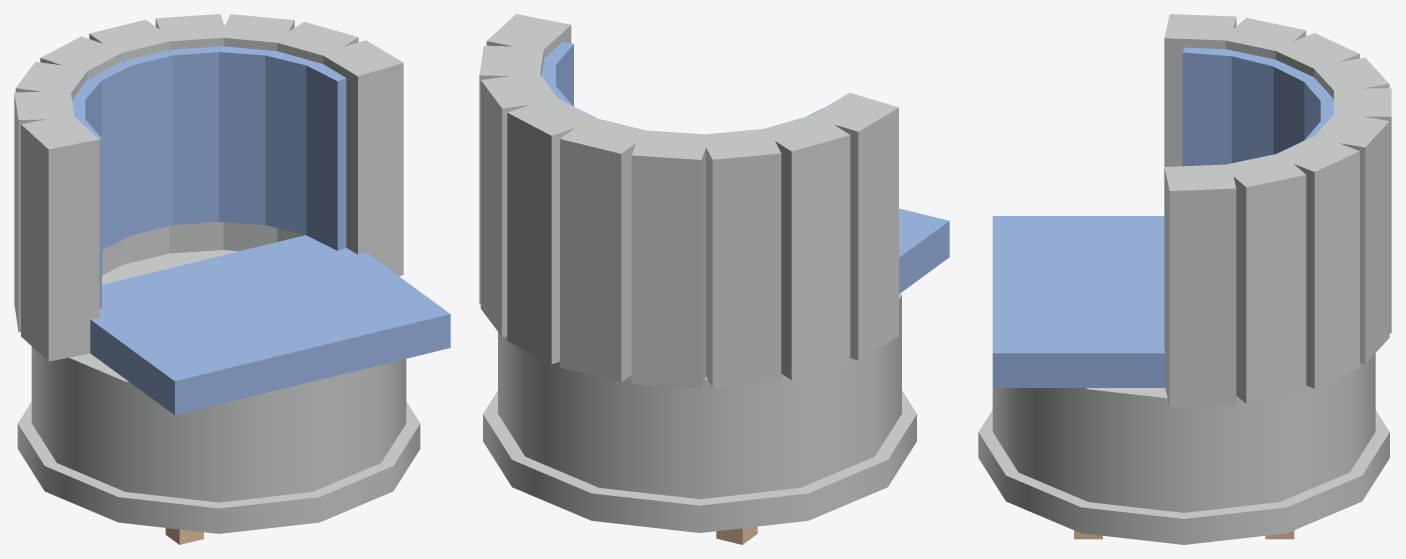
The model's file is armchairBarrel.glb.
The picture shows the model from 3 angles, left to right: view 1: azimuth 30°, elevation 25°; view 2: azimuth 150°, elevation 25°; view 3: azimuth 270°, elevation 25°; orthographic projection. The views are drawn at different scales.
Visible parts, largest first — view 1: armchairBarrel; view 2: armchairBarrel; view 3: armchairBarrel.
Part boxes in pixels (x1,y1,x2,y2): armchairBarrel: (14,14,450,544); armchairBarrel: (479,14,949,544); armchairBarrel: (978,14,1391,544).
Size of the model in its own units: 0.4381 by 0.45 by 0.4318.
